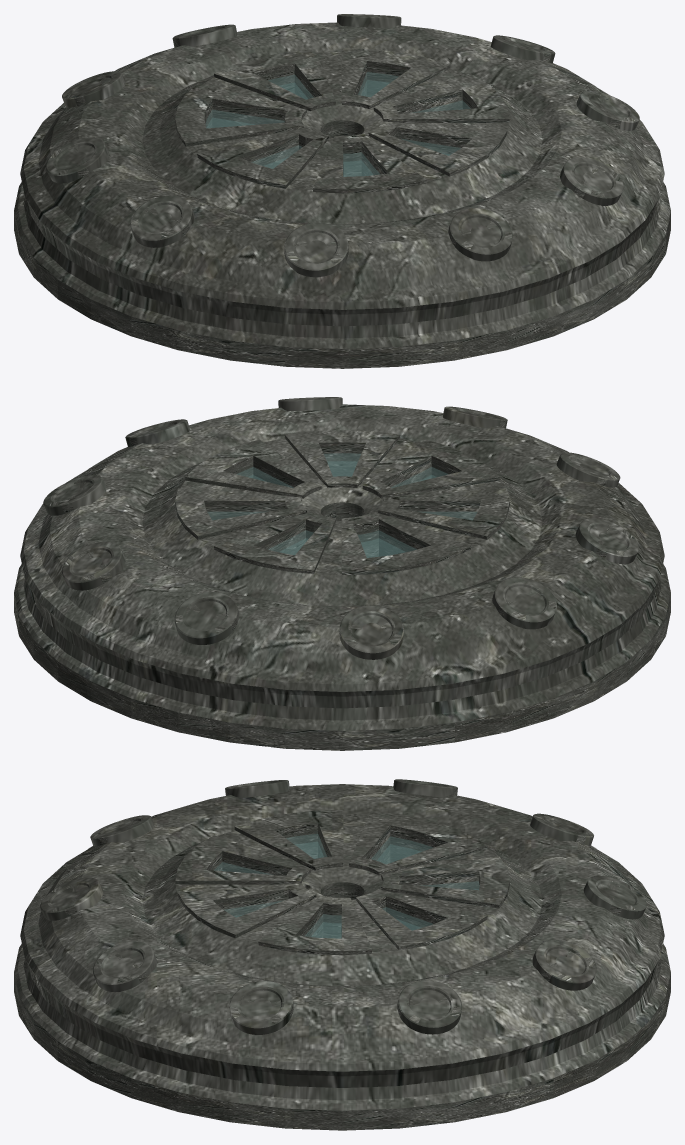
Rendered from Model_GeneratorLokk.FBX.
3 views of the same model, one above another, from view 1: azimuth 30°, elevation 25°; view 2: azimuth 150°, elevation 25°; view 3: azimuth 270°, elevation 25° (orthographic).
Visible parts, largest first — view 1: heatgenerator, glass, Cylinder006, Cylinder007, Cylinder005, Cylinder008, Cylinder004, Cylinder009, Cylinder003, Cylinder010, Cylinder002, Cylinder011; view 2: heatgenerator, glass, Cylinder003, Cylinder002, Cylinder004, Cylinder011, Cylinder005, Cylinder010, Cylinder006, Cylinder009, Cylinder007, Cylinder008; view 3: heatgenerator, glass, Cylinder010, Cylinder009, Cylinder011, Cylinder008, Cylinder002, Cylinder007, Cylinder003, Cylinder006, Cylinder004, Cylinder005.
Part boxes in pixels (x1,y1,x2,y2): heatgenerator: (14,22,670,368); glass: (206,72,470,176); Cylinder006: (284,223,348,277); Cylinder007: (448,208,512,261); Cylinder005: (130,195,194,247); Cylinder008: (560,157,623,205); Cylinder004: (46,137,108,183); Cylinder009: (576,90,639,130); Cylinder003: (62,71,125,107); Cylinder010: (490,35,555,63); Cylinder002: (172,24,237,47); Cylinder011: (337,14,401,28); heatgenerator: (14,404,670,750); glass: (208,453,476,557); Cylinder003: (339,605,403,659); Cylinder002: (174,592,239,644); Cylinder004: (492,577,556,629); Cylinder011: (62,541,125,590); Cylinder005: (575,518,638,564); Cylinder010: (43,475,106,515); Cylinder006: (556,452,620,487); Cylinder009: (125,419,189,446); Cylinder007: (443,406,507,428); Cylinder008: (278,397,342,411); heatgenerator: (14,784,670,1130); glass: (214,834,479,938); Cylinder010: (397,980,461,1034); Cylinder009: (229,981,293,1034); Cylinder011: (532,940,596,990); Cylinder008: (93,941,156,992); Cylinder002: (583,875,646,919); Cylinder007: (40,877,103,920); Cylinder003: (530,813,593,845); Cylinder006: (90,815,154,846); Cylinder004: (393,779,457,797); Cylinder005: (225,780,289,797).
Size of the model in its own units: 92.6 by 17.78 by 92.6.
Materials: 2 (1 with a texture image).
